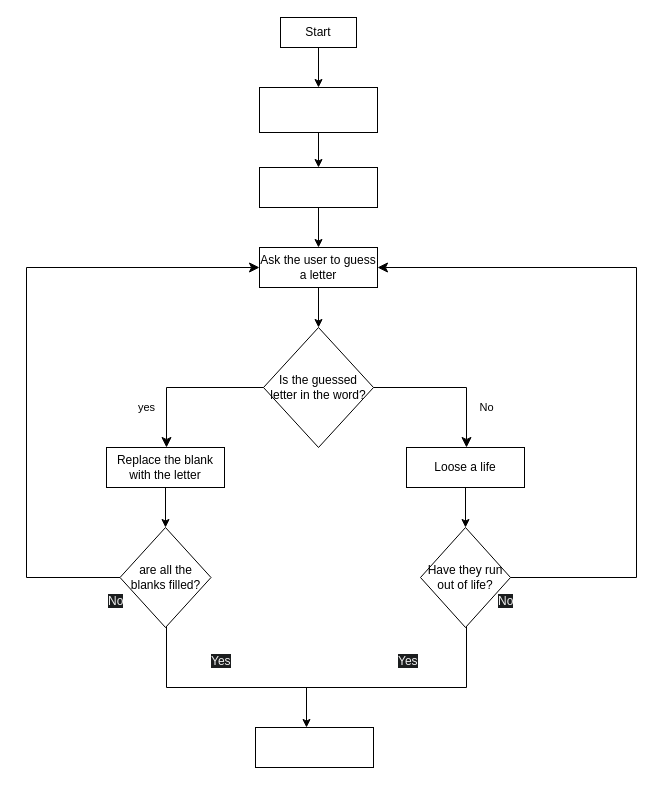
Image size: 664x785. Some labels were removed from this diagram. The centre of each missing label's shape, as x and y in pixels:
Game Over: the point at 314,747
Generate a random word: the point at 318,109
Generate as many blanks as letters in word: the point at 318,187
